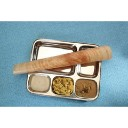dosa: (11, 43, 117, 76)
